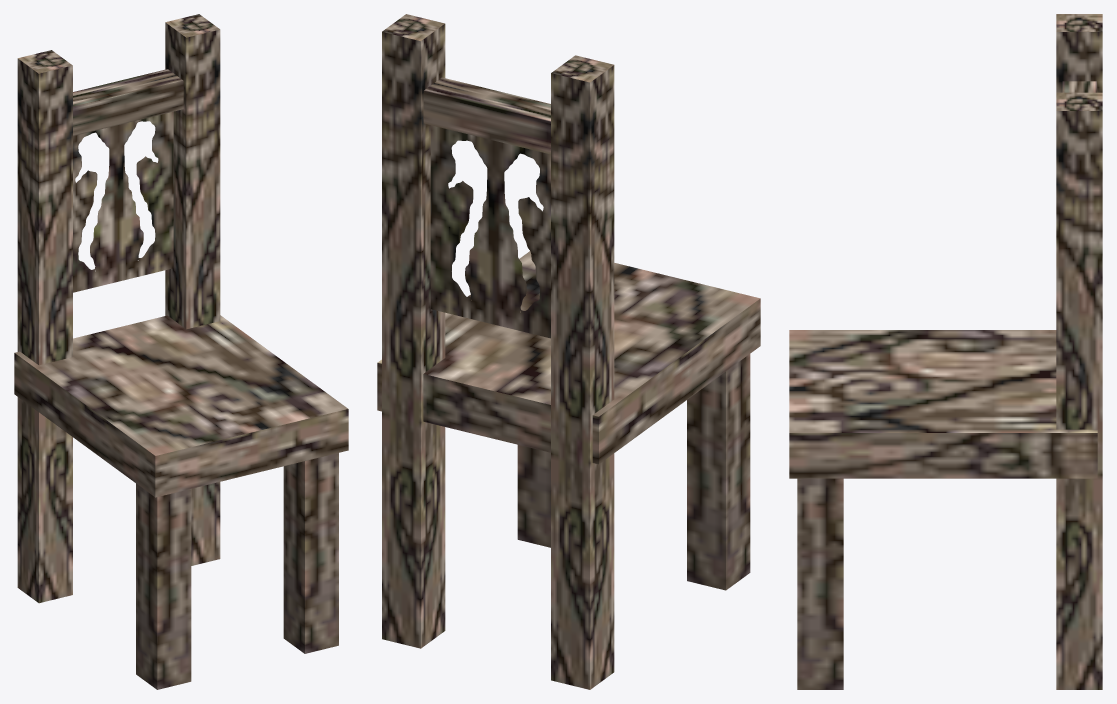
3 renders of one model, left to right at view 1: azimuth 30°, elevation 25°; view 2: azimuth 150°, elevation 25°; view 3: azimuth 270°, elevation 25°, orthographic. The views are drawn at different scales.
Parts seen in each view (by area): view 1: Furniture06; view 2: Furniture06; view 3: Furniture06.
Part boxes in pixels (left/top/right/bottom): Furniture06: left=14, top=14, right=348, bottom=689; Furniture06: left=377, top=14, right=760, bottom=689; Furniture06: left=789, top=14, right=1102, bottom=689.
Bounding box in the file's own units: 42.31 × 111 × 54.34.
